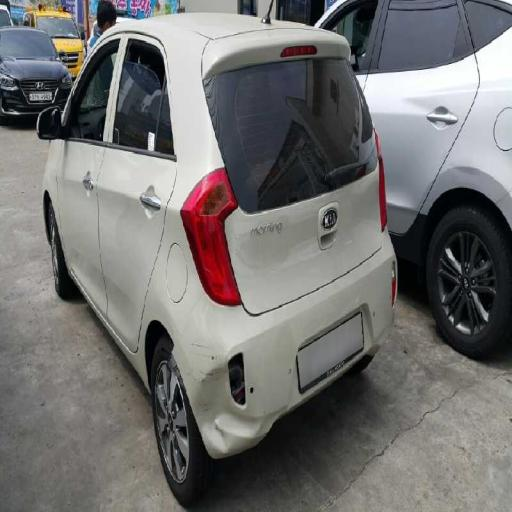dent: (68, 238, 148, 335), (198, 362, 256, 448)
scratch: (175, 299, 282, 487)
